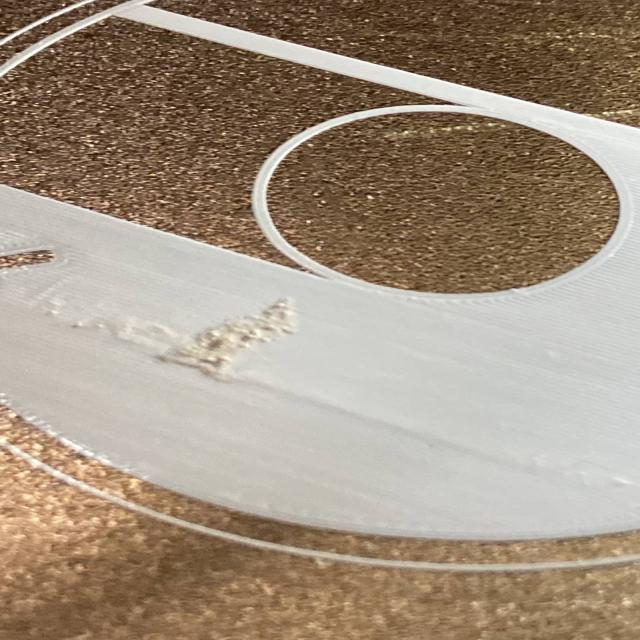blobs: (151, 294, 300, 384)
